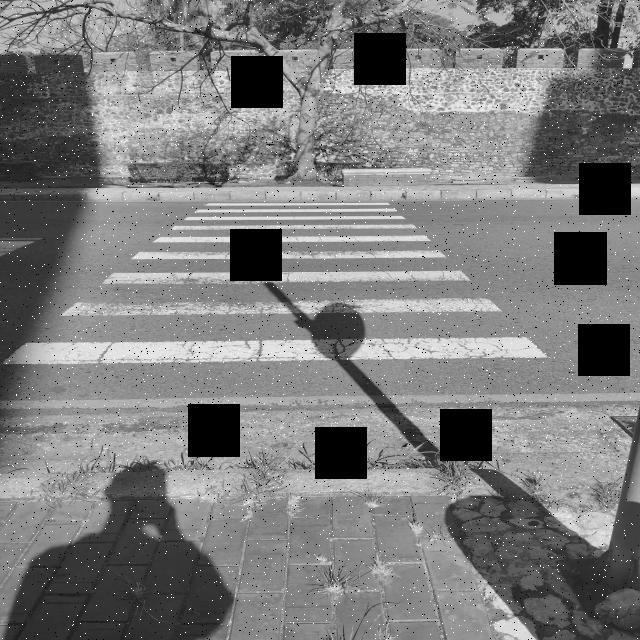zebra_crossing: (7, 201, 559, 363)
